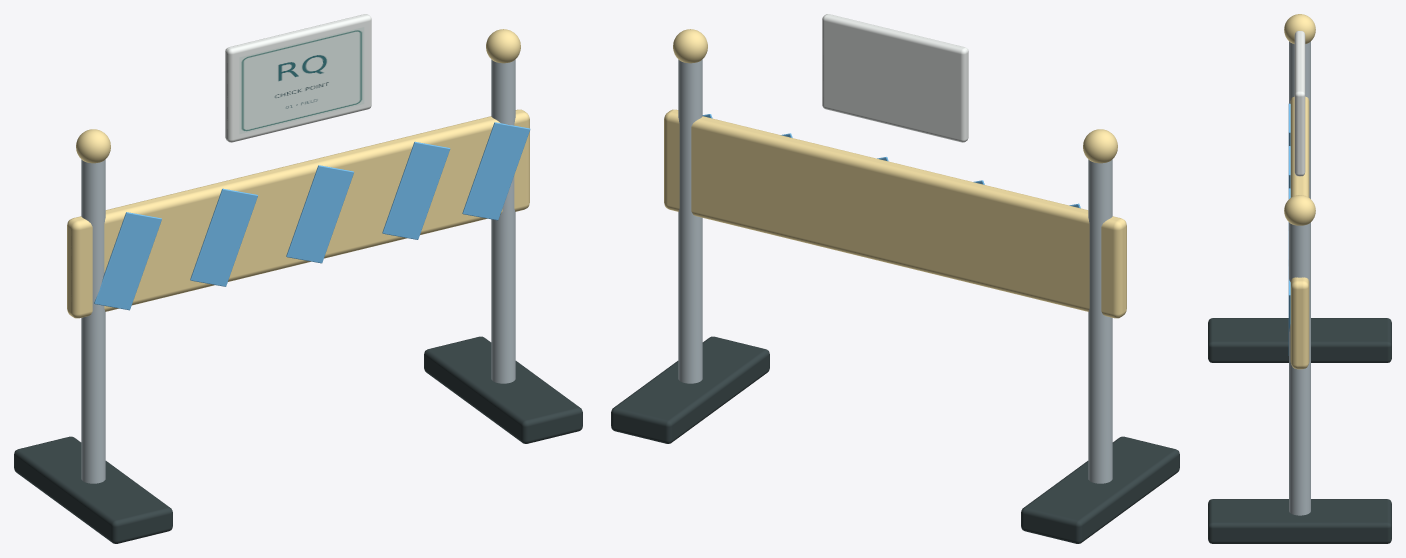
The model's file is safety_barrier.glb.
3 renders of one model, left to right at view 1: azimuth 30°, elevation 25°; view 2: azimuth 150°, elevation 25°; view 3: azimuth 270°, elevation 25°, orthographic. The views are drawn at different scales.
Parts seen in each view (by area): view 1: Barrier_Board, Sign_Label, Barrier_Foot, Barrier_Foot_2, Barrier_Post, Barrier_Post_2, Sign_Plate, Reflective_Stripe_3, Reflective_Stripe_2, Reflective_Stripe_4, Reflective_Stripe_5, Reflective_Stripe (+2 smaller); view 2: Barrier_Board, Sign_Plate, Barrier_Foot, Barrier_Foot_2, Barrier_Post_2, Barrier_Post, Post_Cap, Post_Cap_2; view 3: Barrier_Foot_2, Barrier_Foot, Barrier_Post_2, Barrier_Board, Sign_Plate, Barrier_Post, Post_Cap_2, Post_Cap.
Part boxes in pixels (x1=…): Barrier_Board: x1=67, y1=109, x2=529, y2=318; Sign_Label: x1=239, y1=27, x2=364, y2=134; Barrier_Foot: x1=14, y1=436, x2=172, y2=543; Barrier_Foot_2: x1=424, y1=336, x2=582, y2=443; Barrier_Post: x1=81, y1=159, x2=105, y2=483; Barrier_Post_2: x1=491, y1=59, x2=515, y2=383; Sign_Plate: x1=225, y1=14, x2=371, y2=142; Reflective_Stripe_3: x1=286, y1=165, x2=354, y2=263; Reflective_Stripe_2: x1=190, y1=188, x2=257, y2=286; Reflective_Stripe_4: x1=382, y1=141, x2=450, y2=239; Reflective_Stripe_5: x1=462, y1=122, x2=530, y2=220; Reflective_Stripe: x1=94, y1=212, x2=161, y2=310; Barrier_Board: x1=664, y1=109, x2=1126, y2=318; Sign_Plate: x1=822, y1=14, x2=968, y2=142; Barrier_Foot: x1=1021, y1=436, x2=1179, y2=543; Barrier_Foot_2: x1=611, y1=336, x2=769, y2=443; Barrier_Post_2: x1=678, y1=59, x2=702, y2=383; Barrier_Post: x1=1088, y1=159, x2=1112, y2=483; Post_Cap: x1=1083, y1=129, x2=1117, y2=163; Post_Cap_2: x1=673, y1=29, x2=707, y2=63; Barrier_Foot_2: x1=1208, y1=499, x2=1391, y2=543; Barrier_Foot: x1=1208, y1=318, x2=1391, y2=362; Barrier_Post_2: x1=1289, y1=222, x2=1310, y2=515; Barrier_Board: x1=1290, y1=96, x2=1309, y2=369; Sign_Plate: x1=1294, y1=31, x2=1305, y2=176; Barrier_Post: x1=1289, y1=41, x2=1310, y2=198; Post_Cap_2: x1=1284, y1=195, x2=1315, y2=225; Post_Cap: x1=1284, y1=14, x2=1315, y2=43.
Size of the model in its own units: 1.47 by 1.26 by 0.55.
6 materials, 1 textured.
